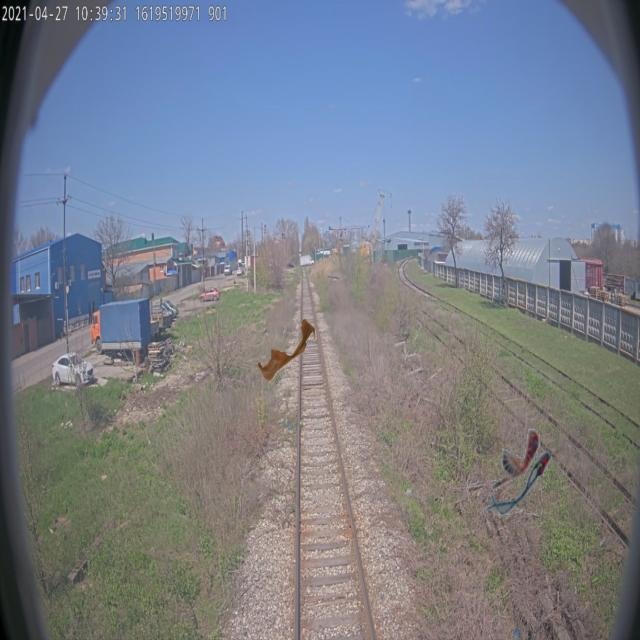floating object: (485, 451, 553, 515), (258, 318, 316, 382), (488, 428, 541, 492)
